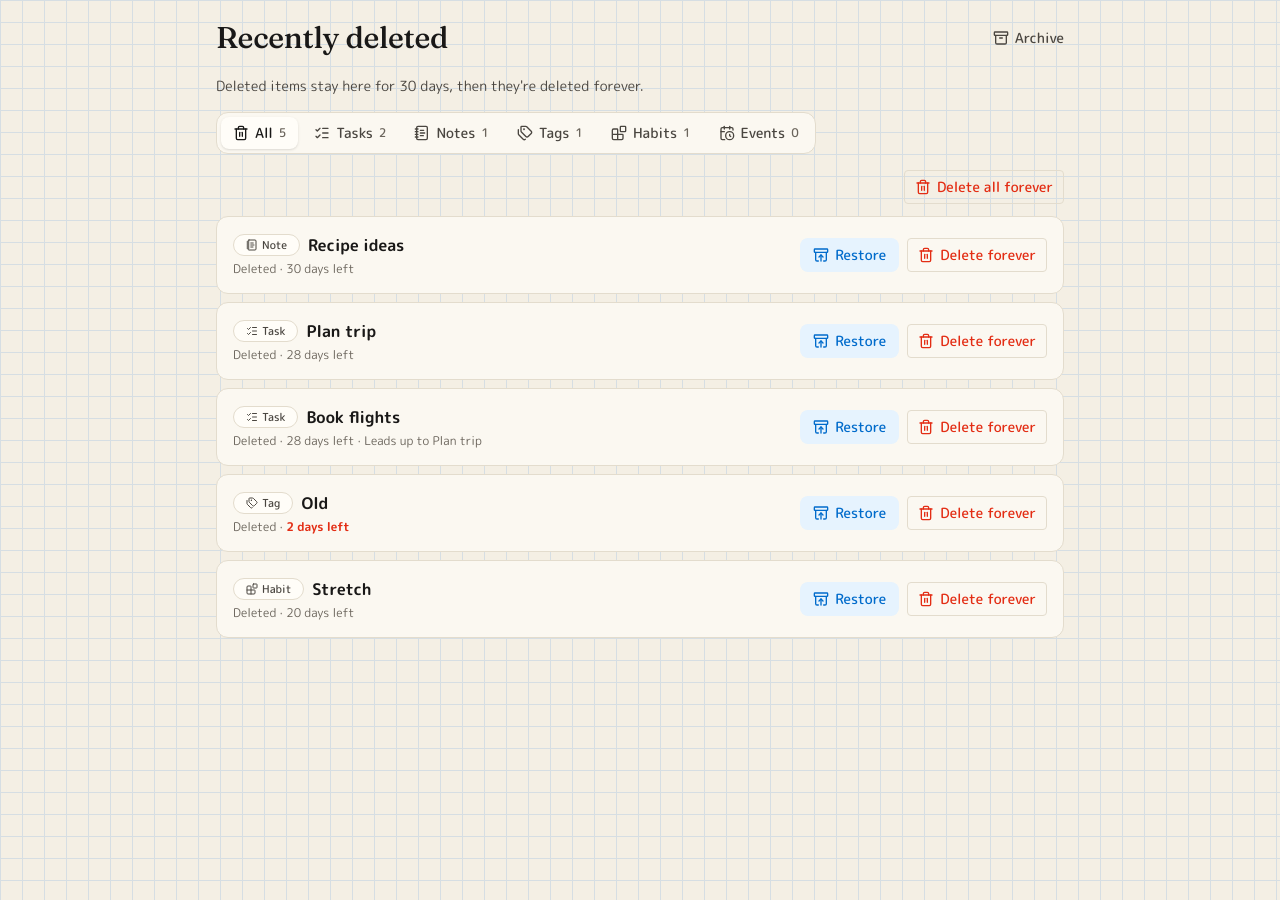
TrashView › deletes forever only after confirmation
Click the button "Delete forever" in the row of "Old".
click(977, 513)  # box [907,496,1047,530]
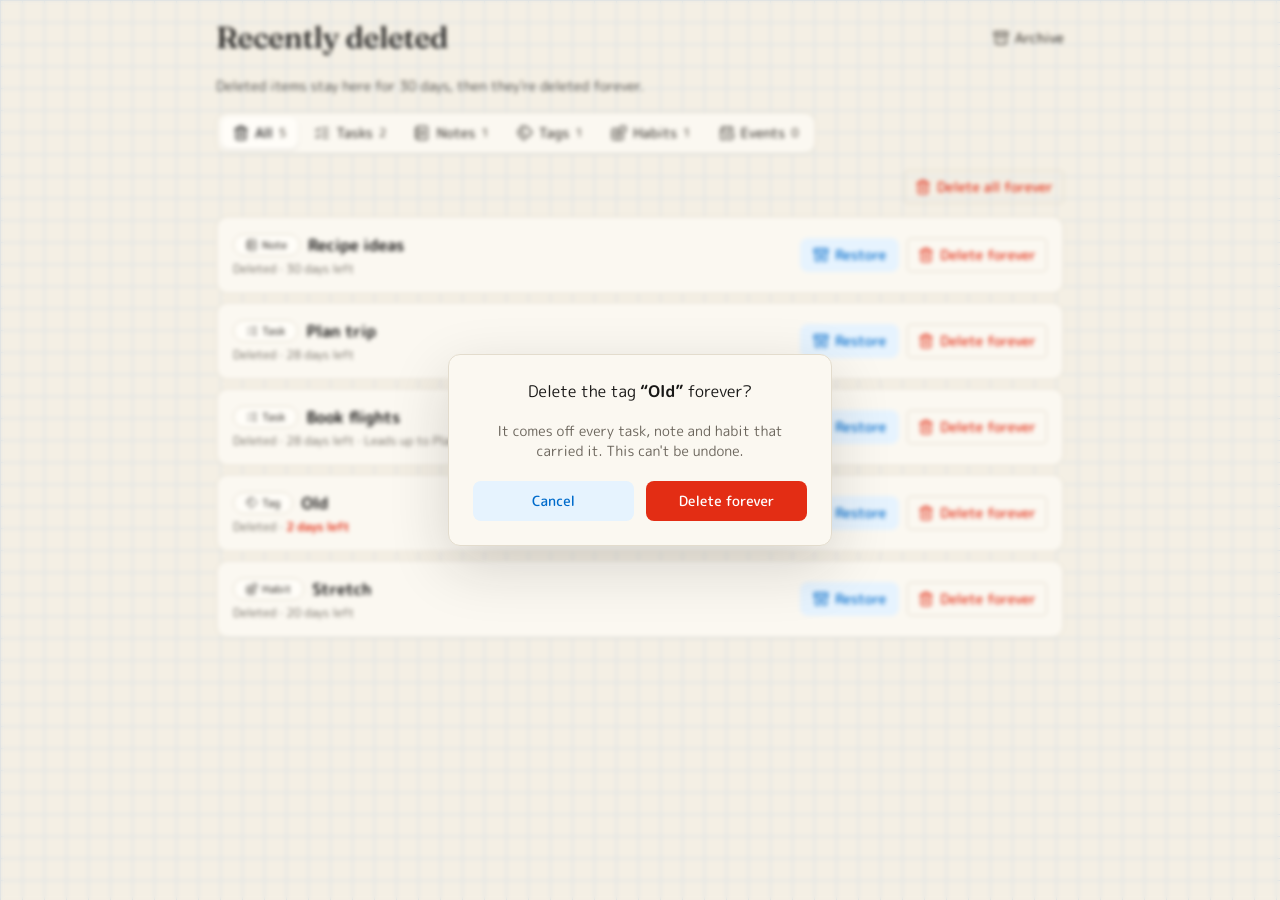
Result: the text "This can't be undone." is shown at [606,441,743,460]
Click the button "Cancel".
click(554, 501)  # box [473,481,634,521]
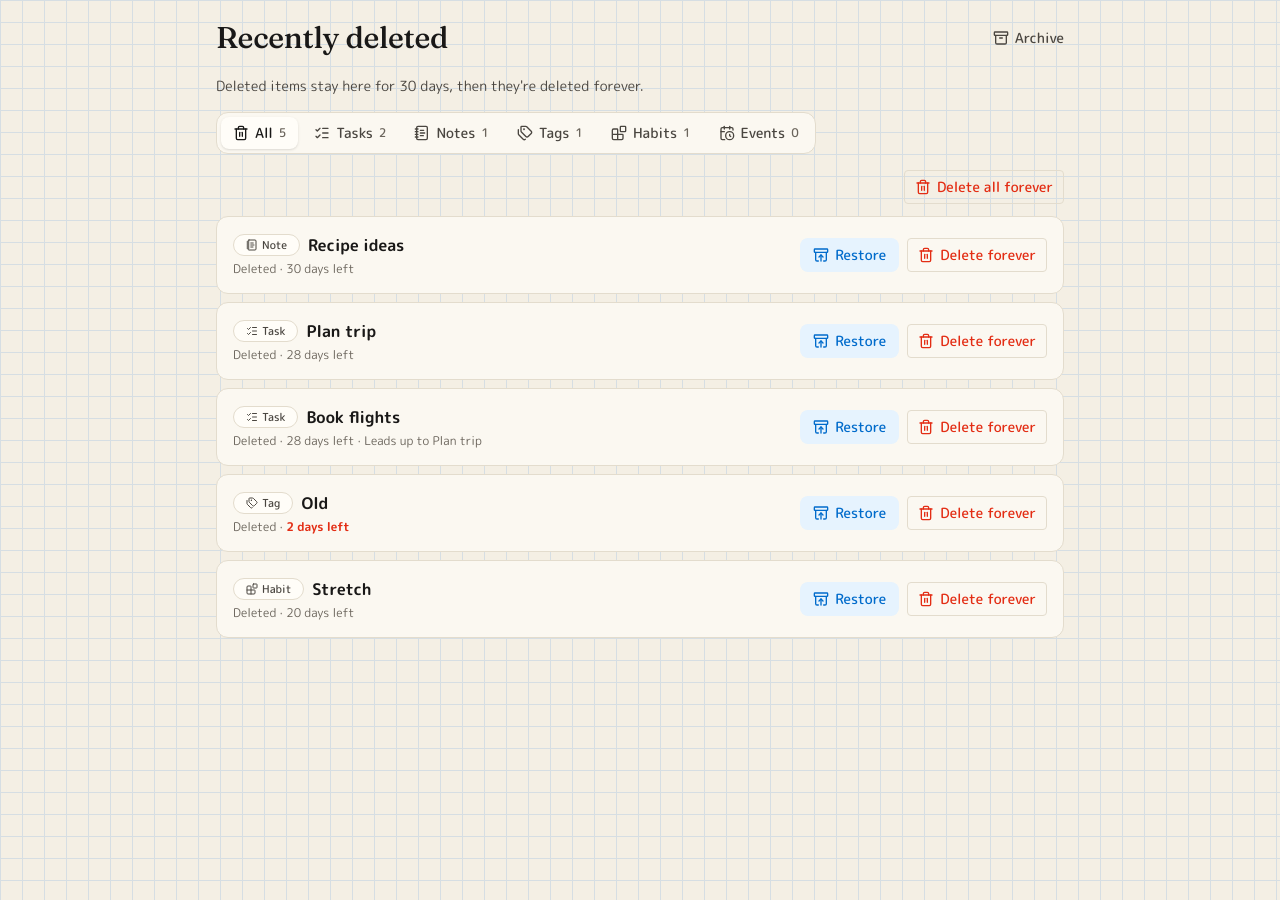
Expected: the heading "Old" is shown, [301,491,328,515]
Click the button "Delete forever" in the row of "Old".
click(977, 513)  # box [907,496,1047,530]
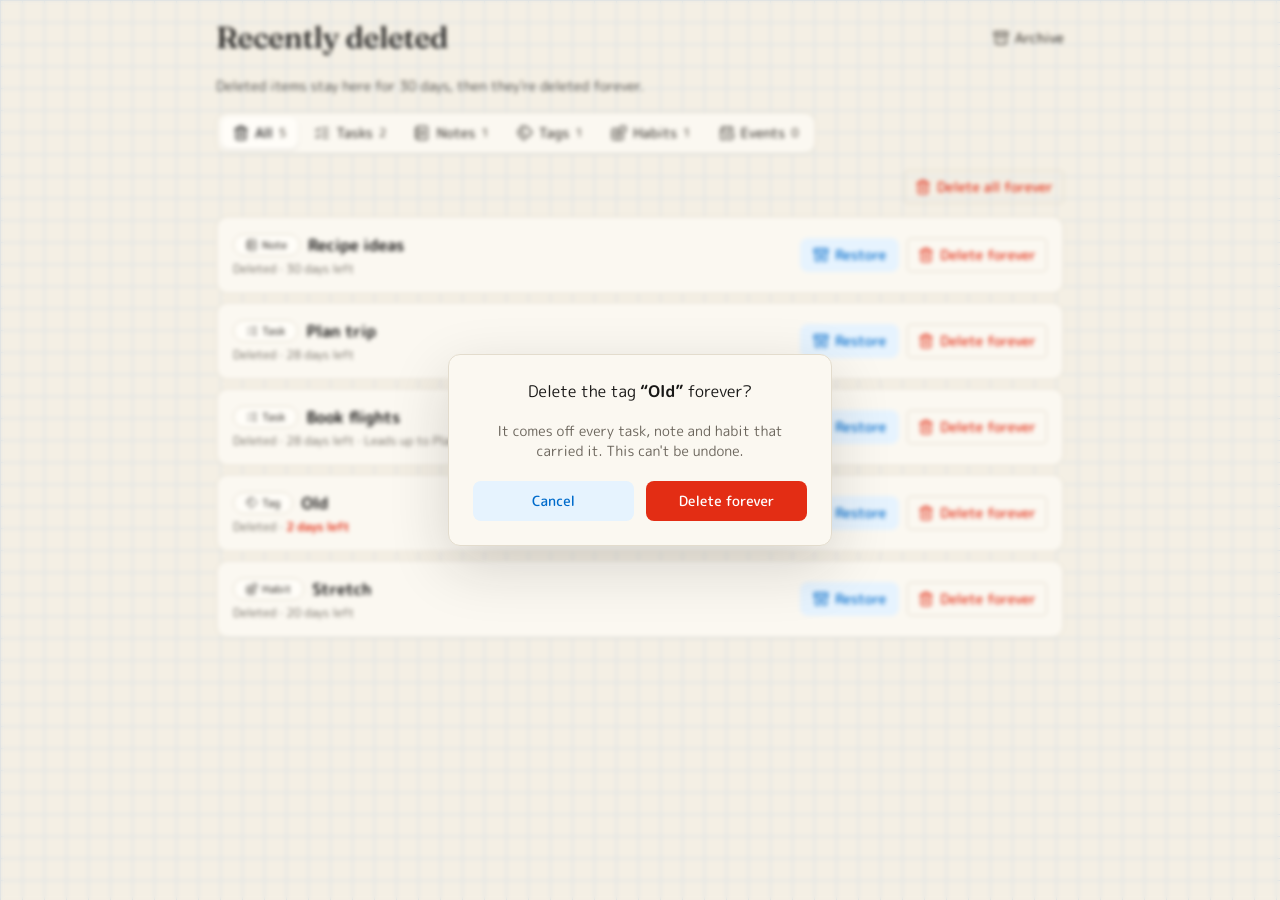
Click the button "Delete forever".
click(726, 501)  # box [646,481,807,521]
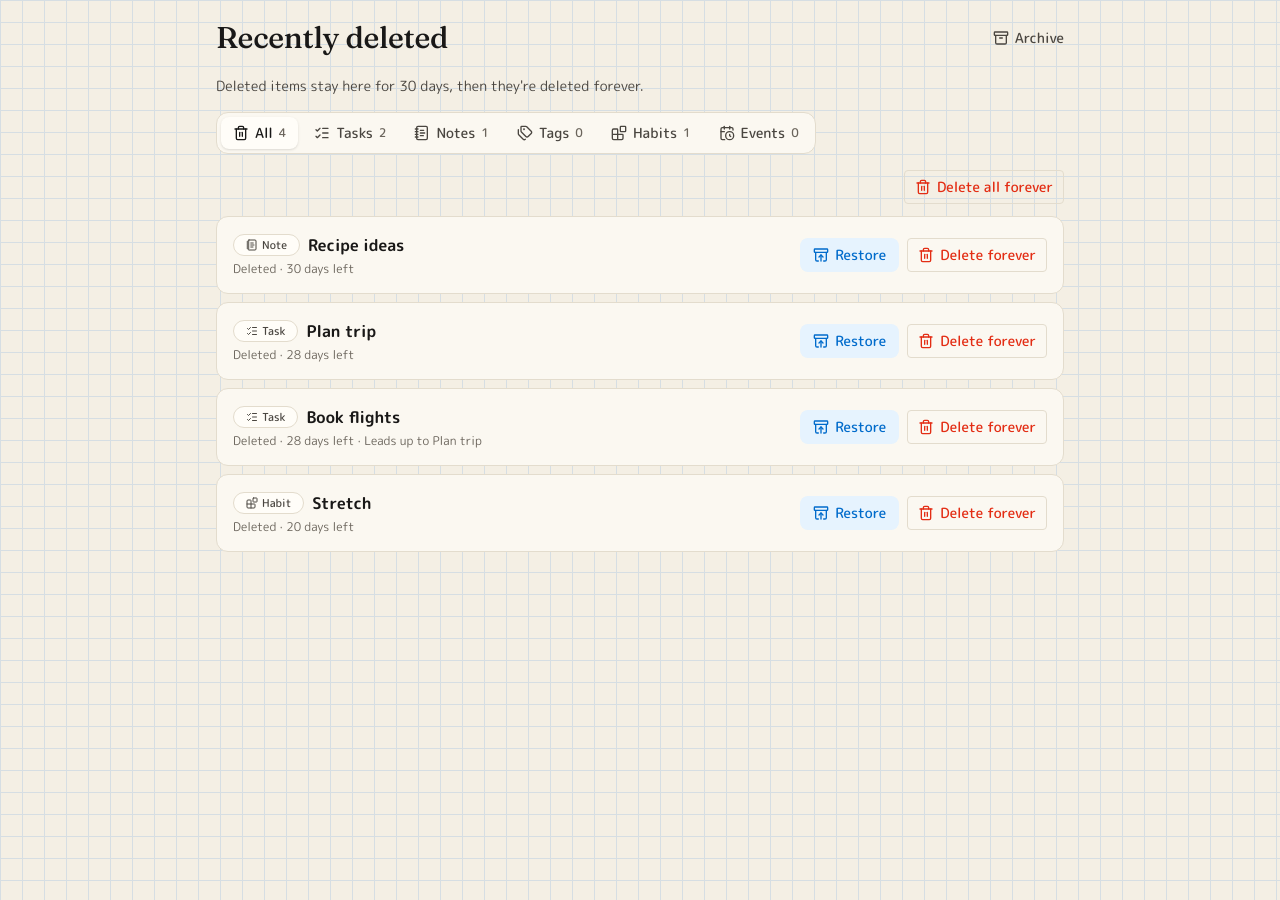
Result: the heading "Old" no longer shows "Old"
